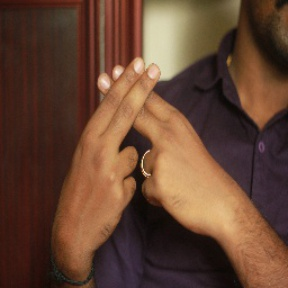F: (57, 51, 208, 185)
